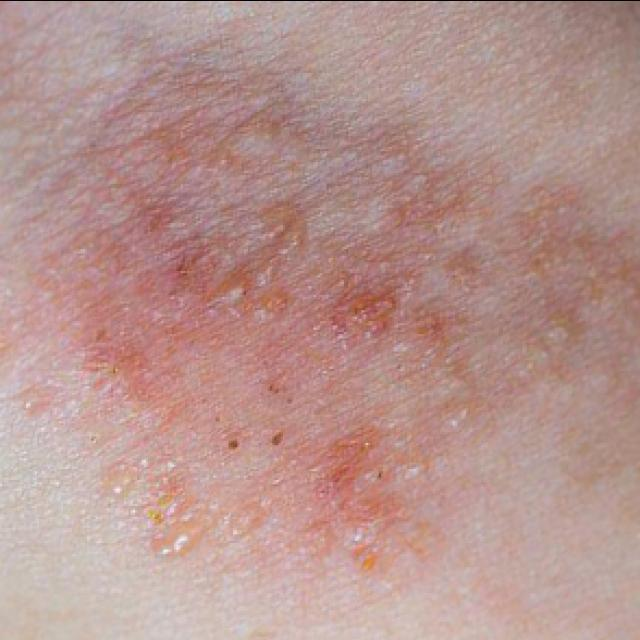AtopicDermatitis: (6, 6, 637, 640)
